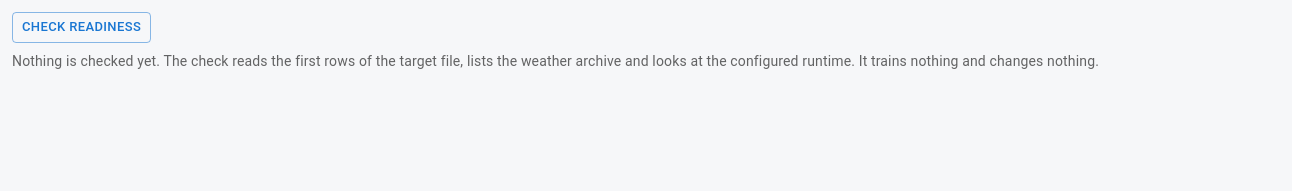
Scenario: ReadinessPanel › shows one of three outcomes with the time it was checked
Click the button with test id "readiness-check" at point(82, 27), box [12,12,151,43]
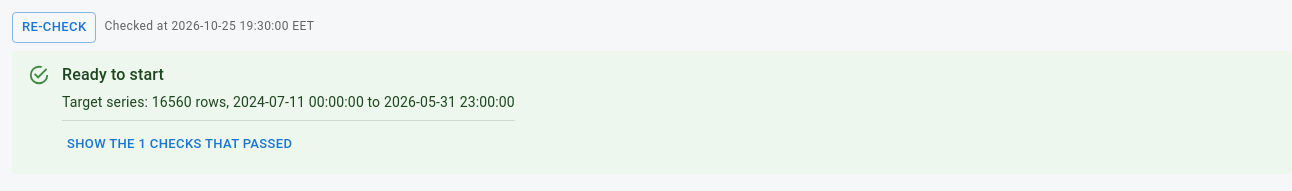
Check: the message with test id "readiness-verdict" shows "Ready to start", box [62,65,164,84]
Check: the text with test id "readiness-checked-at" shows "2026-10-25 19:30:00 EET", box [172,19,314,33]
